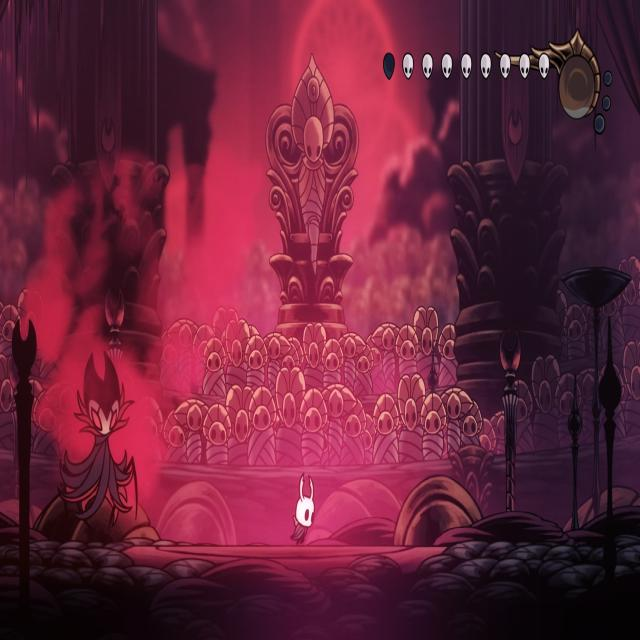Grimm: (54, 343, 142, 543)
Player: (288, 468, 316, 548)
